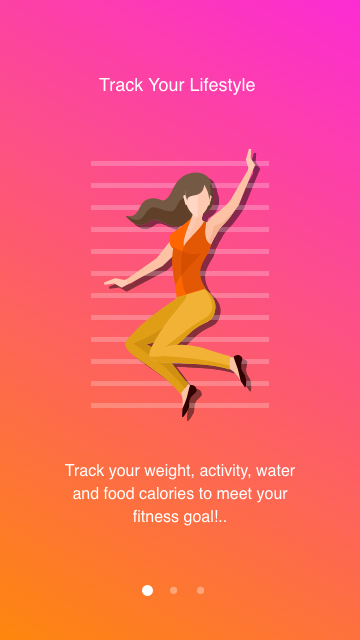Image: (91, 149, 270, 422)
PageIndicator: (141, 584, 206, 598)
Text: (65, 463, 296, 527), (99, 78, 256, 97)
